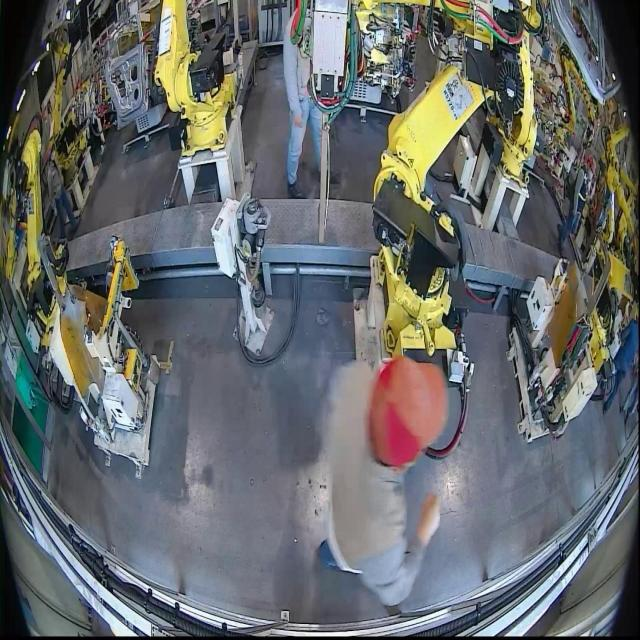Person: (319, 354, 446, 611), (282, 2, 328, 198), (47, 157, 78, 240)
